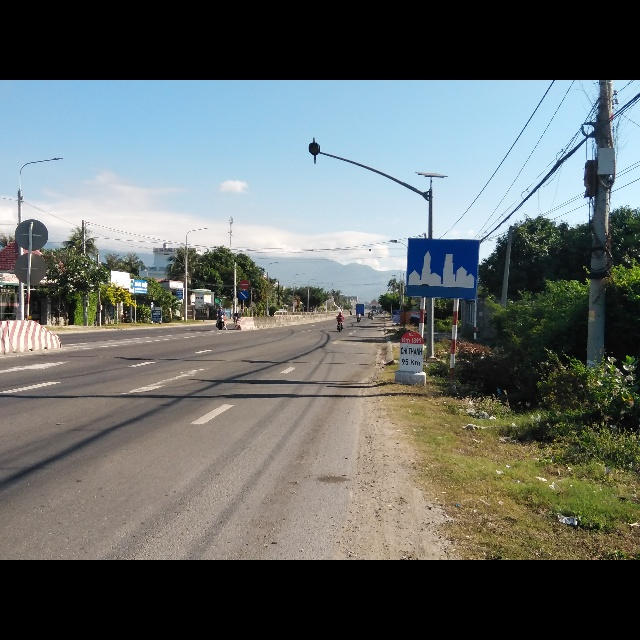Khu đông dân cư: (404, 237, 480, 300)
